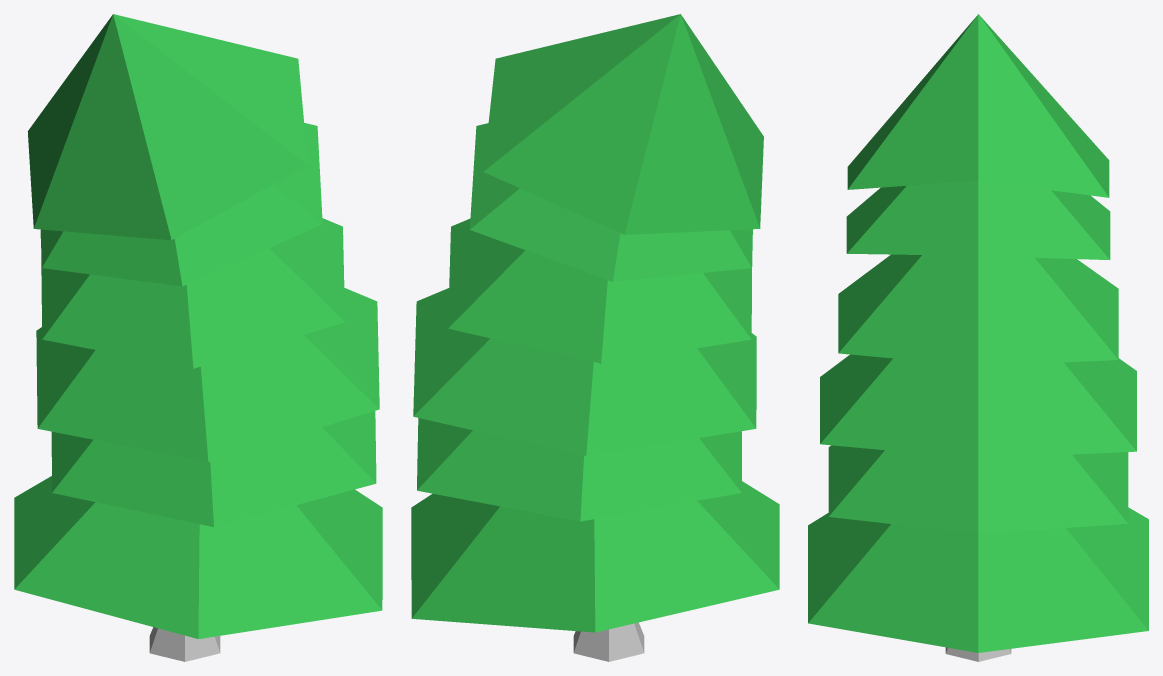
Rendered from fir_summer_4.fbx.
The picture shows the model from 3 angles, left to right: view 1: azimuth 30°, elevation 25°; view 2: azimuth 150°, elevation 25°; view 3: azimuth 270°, elevation 25°; orthographic projection. The views are drawn at different scales.
Parts seen in each view (by area): view 1: fir.005; view 2: fir.005; view 3: fir.005.
Boxes of the visible parts, box(x1,y1,x2,y2) form: fir.005: box(14, 14, 382, 661); fir.005: box(411, 14, 779, 661); fir.005: box(808, 14, 1148, 661).
Bounding box in the file's own units: 996 × 1675 × 863.
